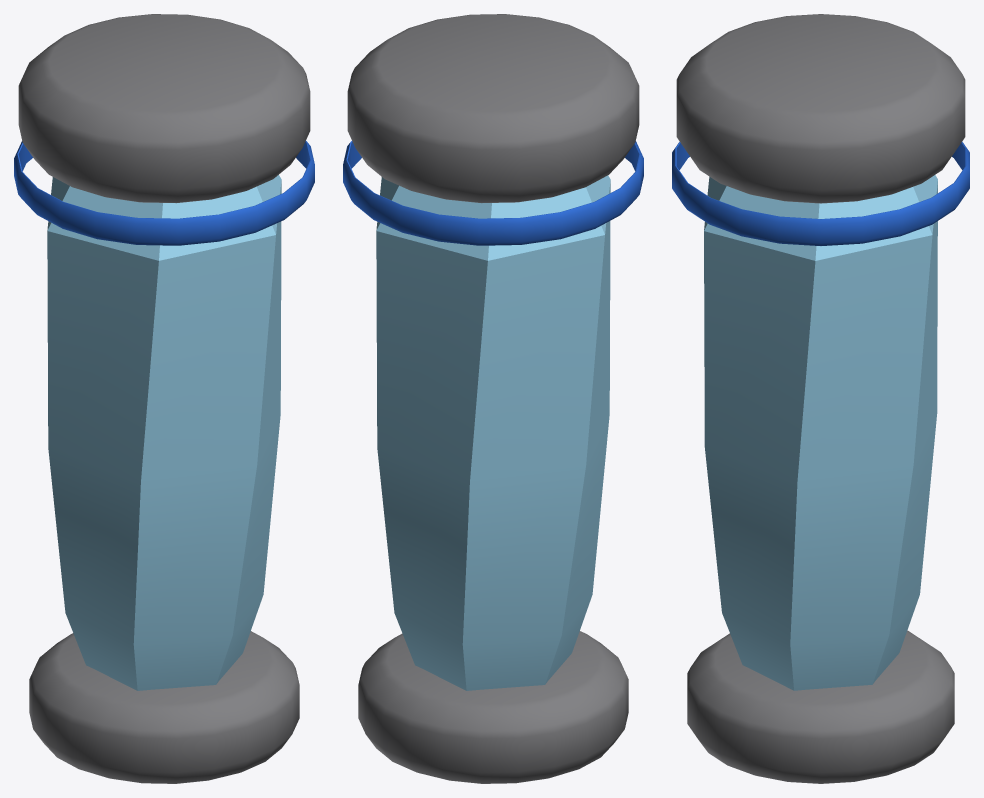
File: Kit_Limb_LeagueCrystal_L.glb
The picture shows the model from 3 angles, left to right: view 1: azimuth 30°, elevation 25°; view 2: azimuth 150°, elevation 25°; view 3: azimuth 270°, elevation 25°; orthographic projection.
Visible parts, largest first — view 1: Kit_Limb_LeagueCrystal_L; view 2: Kit_Limb_LeagueCrystal_L; view 3: Kit_Limb_LeagueCrystal_L.
Part boxes in pixels (bbox=[...]): Kit_Limb_LeagueCrystal_L: bbox=[14, 14, 314, 783]; Kit_Limb_LeagueCrystal_L: bbox=[343, 14, 643, 783]; Kit_Limb_LeagueCrystal_L: bbox=[672, 14, 969, 783].
Size of the model in its own units: 0.145 by 0.3568 by 0.1436.
